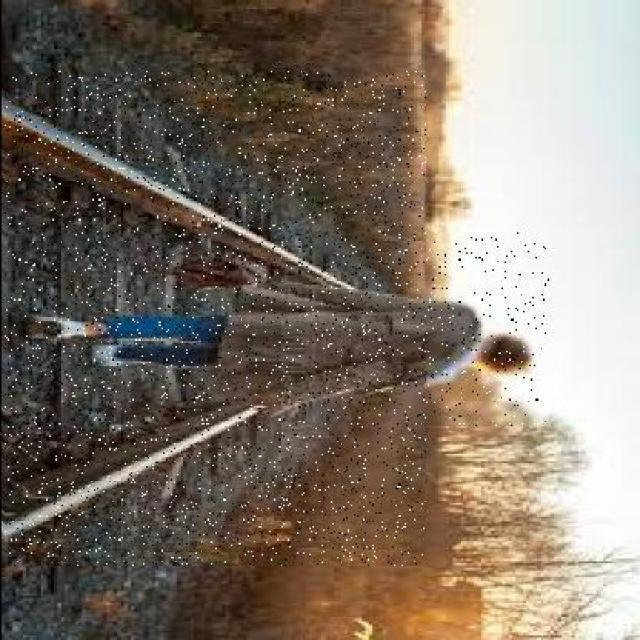rail: (4, 72, 425, 566)
